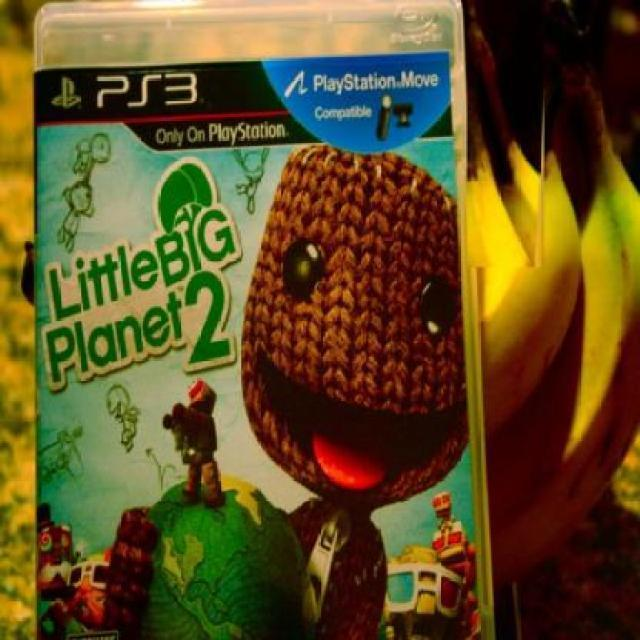Banana: (465, 19, 640, 573)
